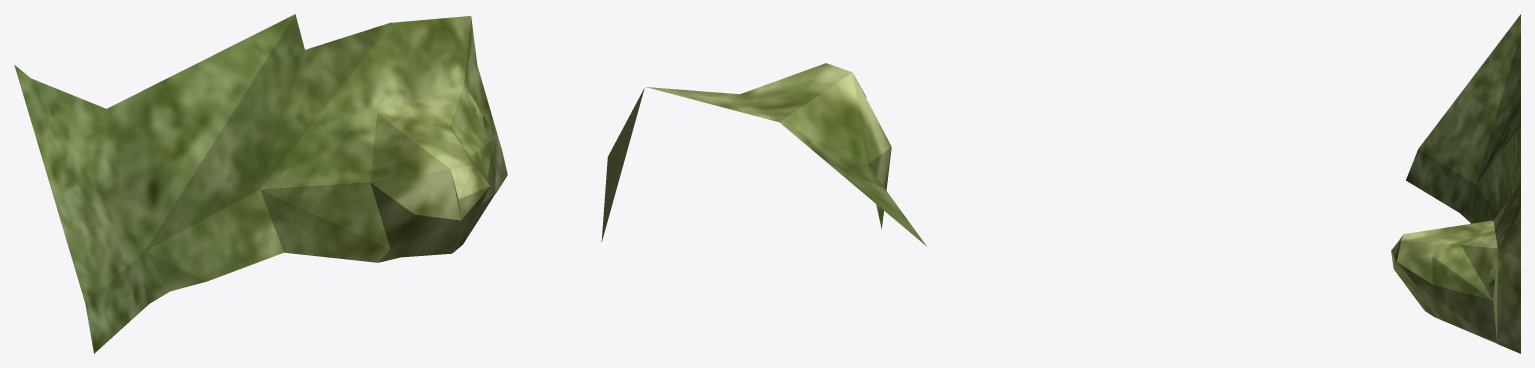
3 renders of one model, left to right at view 1: azimuth 30°, elevation 25°; view 2: azimuth 150°, elevation 25°; view 3: azimuth 270°, elevation 25°, orthographic. The views are drawn at different scales.
Bounding box in the file's own units: 1.96 × 0.8757 × 0.6188.
1 material, 1 textured.
